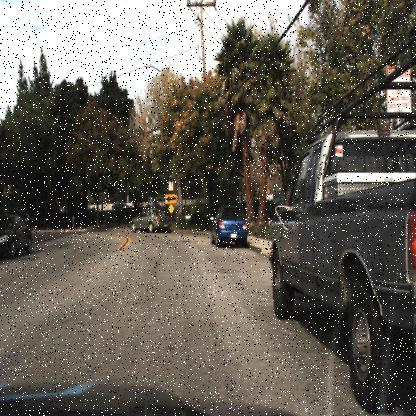car: (268, 130, 415, 415), (208, 202, 249, 245), (0, 213, 33, 261), (129, 204, 174, 232)
